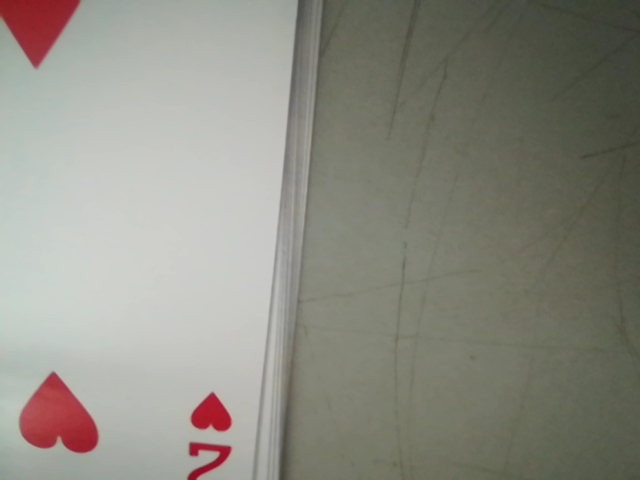hx 2: (176, 404, 243, 476)
